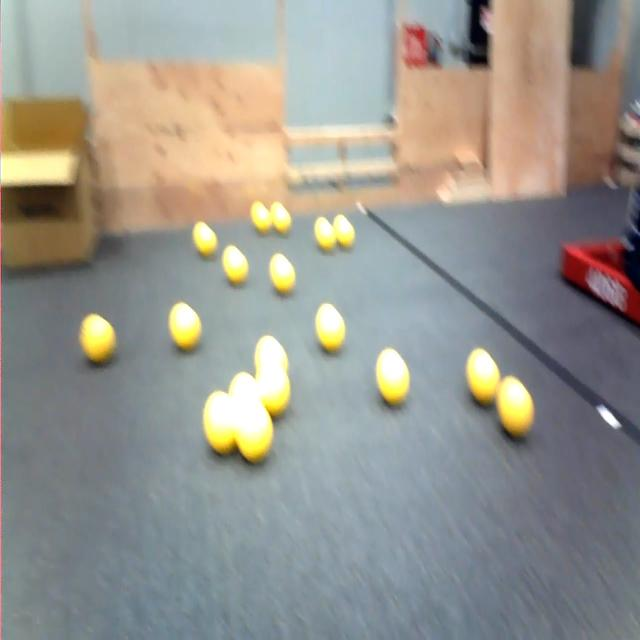fuel: (496, 376, 534, 438), (236, 403, 273, 463), (203, 392, 237, 455), (466, 349, 500, 405), (376, 349, 409, 405), (79, 314, 116, 363), (257, 364, 290, 417), (169, 303, 201, 351), (316, 304, 345, 352), (254, 336, 288, 375), (269, 254, 295, 295), (222, 246, 248, 285), (229, 372, 259, 401), (193, 222, 217, 256), (314, 217, 336, 251), (334, 215, 355, 248), (251, 201, 272, 233), (271, 201, 291, 233)
